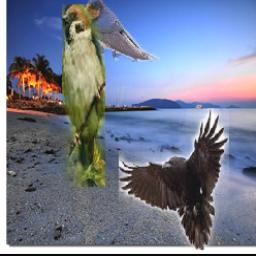Crow: (118, 108, 228, 251)
Sparrow: (62, 4, 105, 187)
Swallow: (84, 0, 160, 63)
